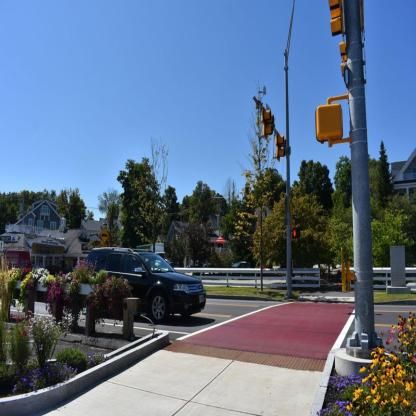Don-t Walk: (292, 228, 300, 240)
